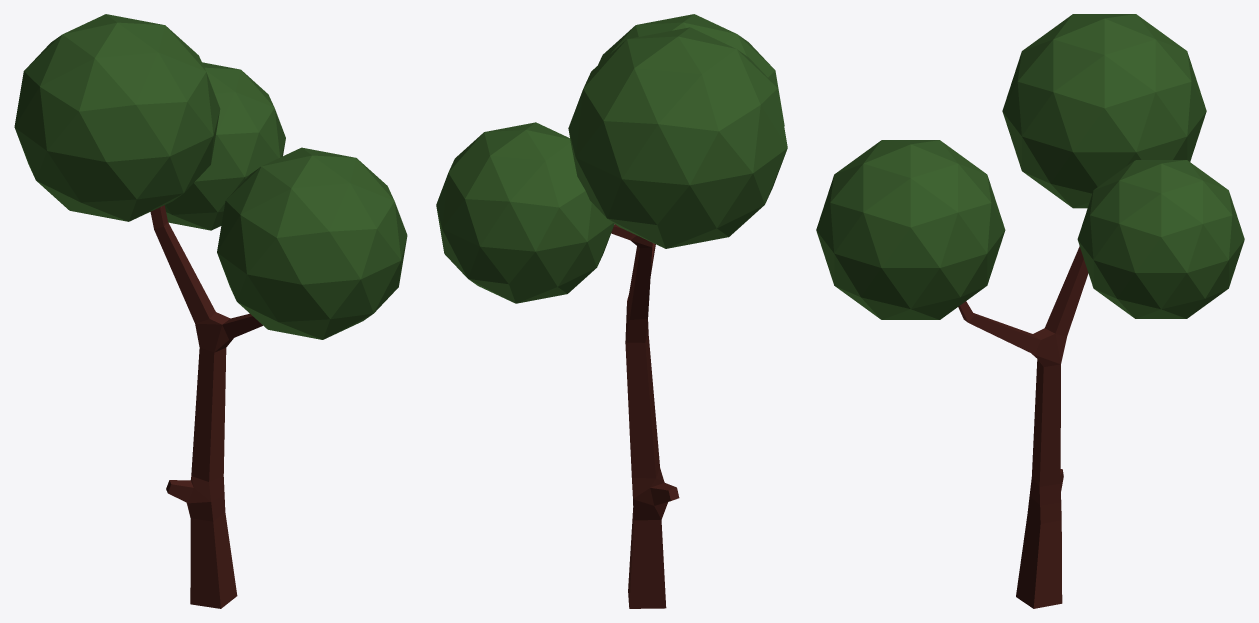
File: TEX_cherry_tree.fbx
3 views of the same model, side by side, from view 1: azimuth 30°, elevation 25°; view 2: azimuth 150°, elevation 25°; view 3: azimuth 270°, elevation 25° (orthographic). The views are drawn at different scales.
Visible parts, largest first — view 1: F_cherry_tree; view 2: F_cherry_tree; view 3: F_cherry_tree.
Boxes of the visible parts, x1,y1,x2,y2 form: F_cherry_tree: (14,14,407,608); F_cherry_tree: (436,14,787,608); F_cherry_tree: (816,14,1244,608).
Bounding box in the file's own units: 141 × 283 × 199.
Materials: 1 (1 with a texture image).
